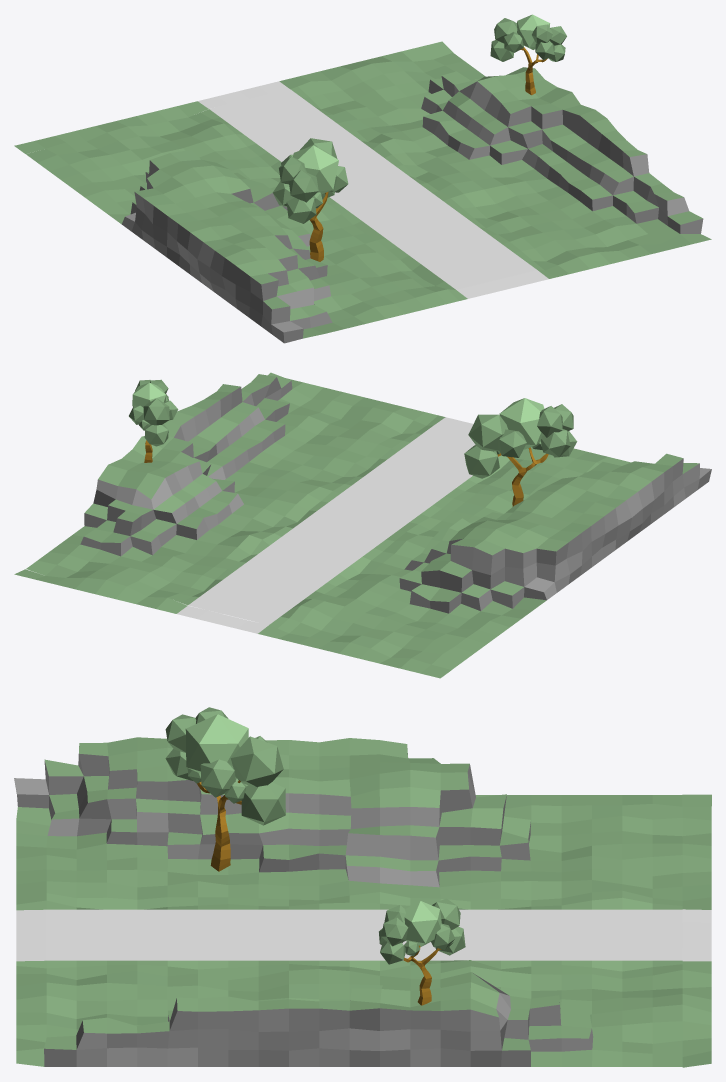
File: daglık.fbx
The picture shows the model from 3 angles, top to bottom: view 1: azimuth 30°, elevation 25°; view 2: azimuth 150°, elevation 25°; view 3: azimuth 270°, elevation 25°; orthographic projection. The views are drawn at different scales.
Parts seen in each view (by area): view 1: Plane, Cube.001, Cube.002; view 2: Plane, Cube.001, Cube.002; view 3: Plane, Cube.001, Cube.002.
Boxes of the visible parts, <box> form: Plane: <box>14,41,711,343</box>; Cube.001: <box>272,138,348,261</box>; Cube.002: <box>490,14,566,95</box>; Plane: <box>14,372,711,678</box>; Cube.001: <box>464,398,577,506</box>; Cube.002: <box>129,379,178,462</box>; Plane: <box>14,737,711,1067</box>; Cube.001: <box>165,707,285,871</box>; Cube.002: <box>379,898,465,1005</box>.
Size of the model in its own units: 1622 by 433 by 1752.
